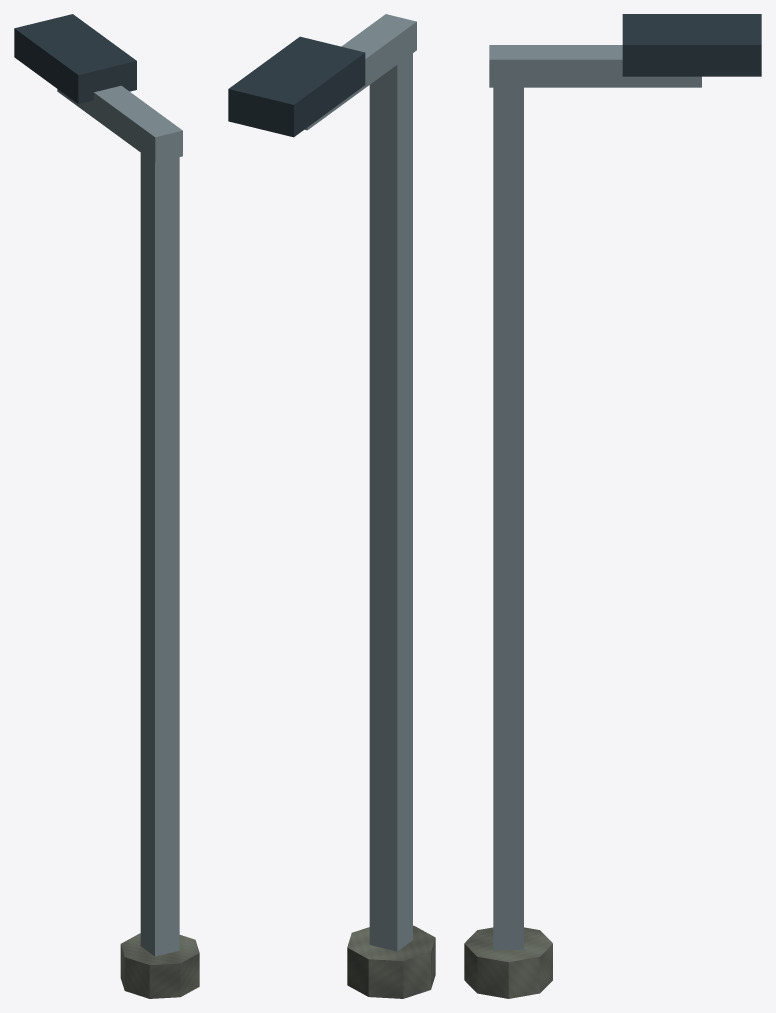
File: prop_streetlight_modern_LOD0.glb
3 views of the same model, side by side, from view 1: azimuth 30°, elevation 25°; view 2: azimuth 150°, elevation 25°; view 3: azimuth 270°, elevation 25° (orthographic). The views are drawn at different scales.
Parts seen in each view (by area): view 1: prop_streetlight_modern__surface; view 2: prop_streetlight_modern__surface; view 3: prop_streetlight_modern__surface.
Boxes of the visible parts, box(x1,y1,x2,y2) form: prop_streetlight_modern__surface: box(14, 14, 199, 998); prop_streetlight_modern__surface: box(228, 14, 435, 998); prop_streetlight_modern__surface: box(464, 14, 761, 998).
Bounding box in the file's own units: 0.46 × 5.43 × 1.54.
4 materials, 1 textured.
